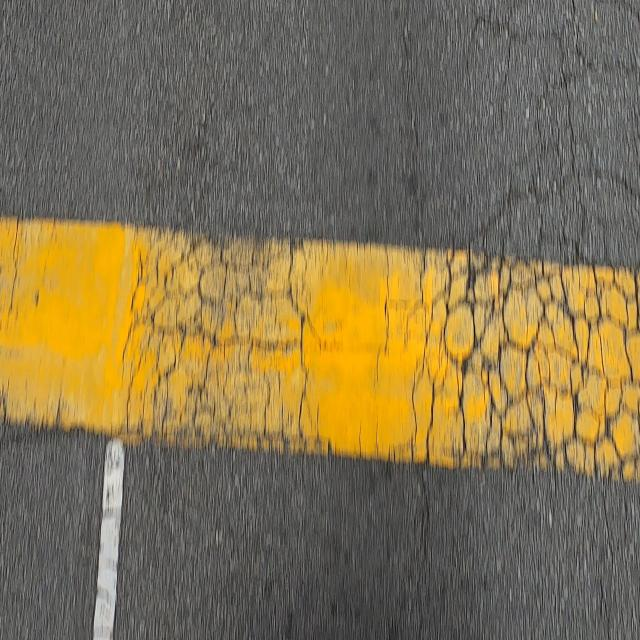Retak-Buaya: (403, 0, 640, 483), (117, 226, 316, 456)
